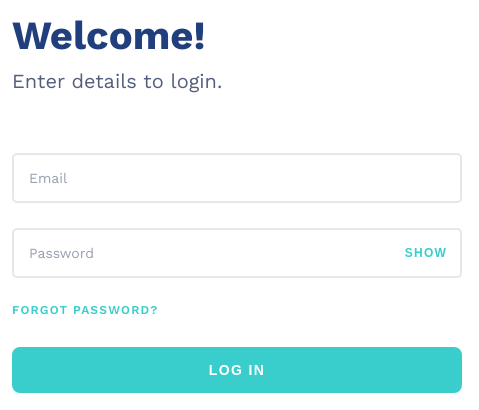
Test case: Login Component › Form Interaction › toggles password visibility
This screenshot has width=479, height=410.
Click the button "SHOW": (426, 253) [405,246,447,260]
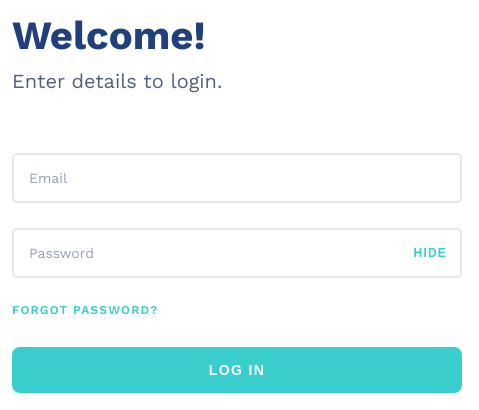
expect the button "HIDE" is shown: met, box [414,246,447,260]
